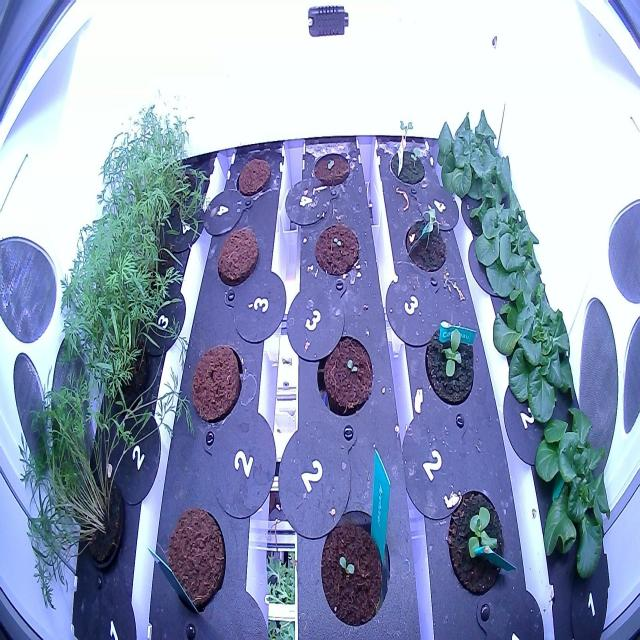germination: (318, 498, 393, 630), (314, 326, 376, 421), (399, 203, 450, 277), (311, 220, 361, 281), (388, 115, 427, 186), (310, 147, 352, 192)
pod: (164, 501, 228, 617), (189, 337, 244, 427), (216, 220, 261, 294), (234, 152, 272, 206)
young: (444, 485, 510, 600), (423, 319, 477, 411)
